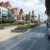others: (1, 23, 31, 49)
